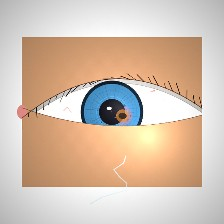foreign_body_visible: (102, 99, 143, 132)
